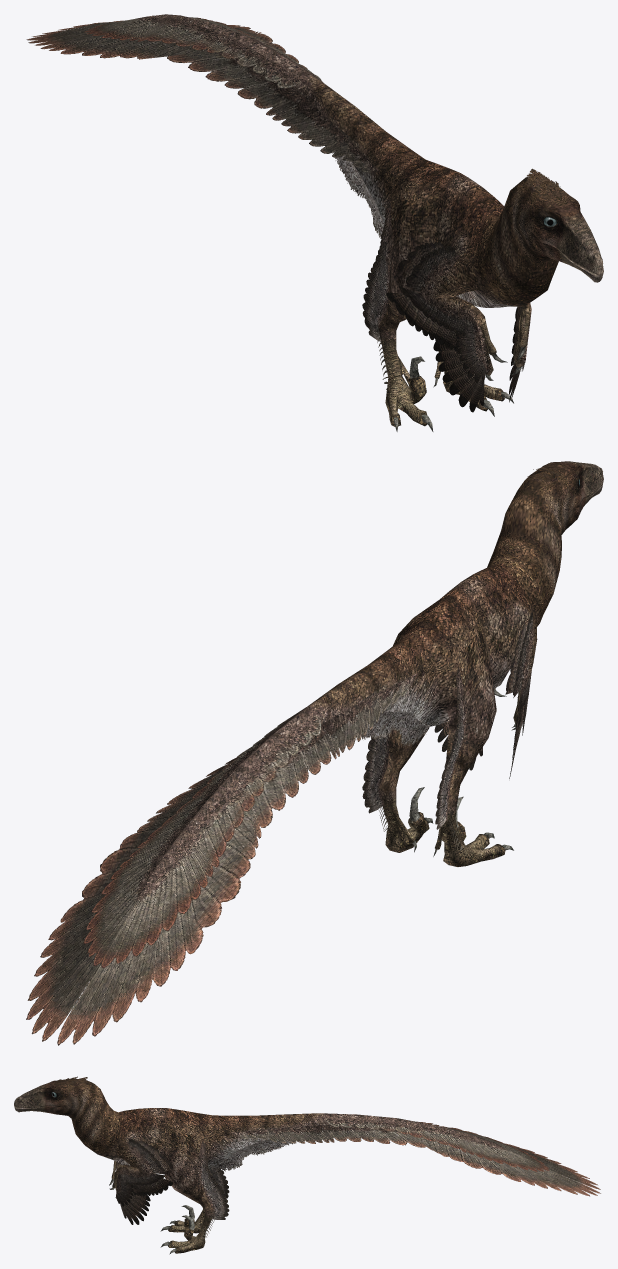
File: Deinonychus.obj
3 renders of one model, top to bottom at view 1: azimuth 30°, elevation 25°; view 2: azimuth 150°, elevation 25°; view 3: azimuth 270°, elevation 25°, orthographic. The views are drawn at different scales.
Parts seen in each view (by area): view 1: Deinonychus_Adult_Female_~_Property_Of_JFD; view 2: Deinonychus_Adult_Female_~_Property_Of_JFD; view 3: Deinonychus_Adult_Female_~_Property_Of_JFD.
Part boxes in pixels (x1,y1,x2,y2): Deinonychus_Adult_Female_~_Property_Of_JFD: (26, 14, 603, 431); Deinonychus_Adult_Female_~_Property_Of_JFD: (26, 461, 603, 1045); Deinonychus_Adult_Female_~_Property_Of_JFD: (14, 1076, 600, 1254).
Bounding box in the file's own units: 0.5813 × 1.07 × 3.49.
Materials: 1 (1 with a texture image).
